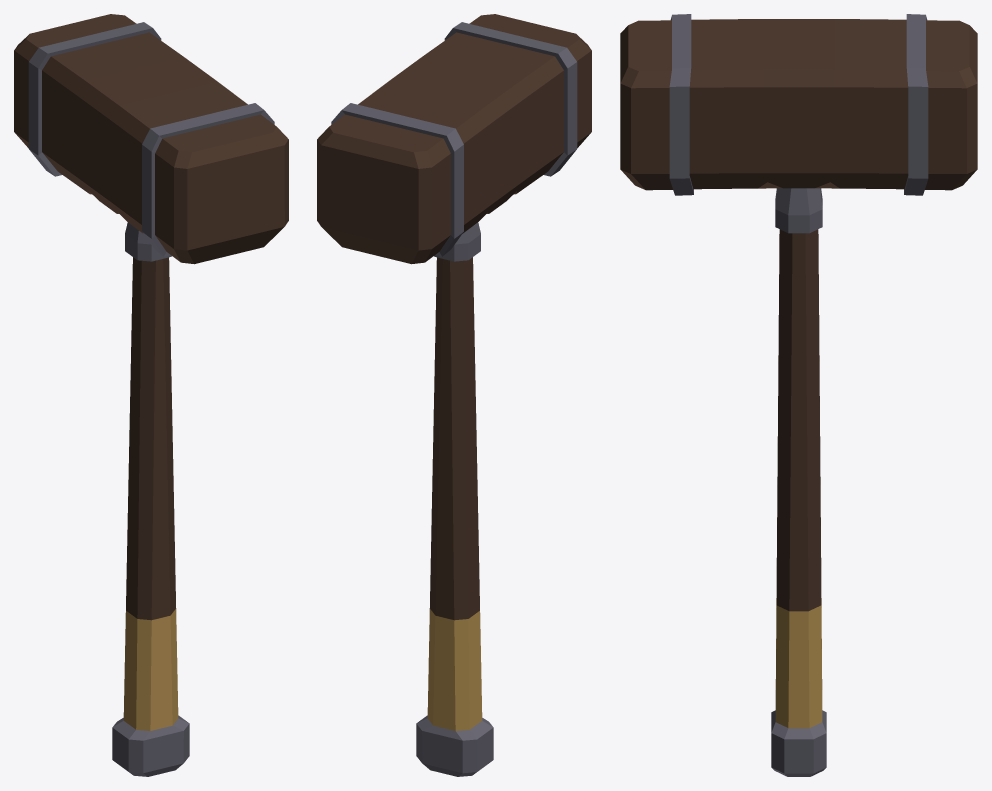
Rendered from Hammer.fbx.
The picture shows the model from 3 angles, left to right: view 1: azimuth 30°, elevation 25°; view 2: azimuth 150°, elevation 25°; view 3: azimuth 270°, elevation 25°; orthographic projection. The views are drawn at different scales.
Visible parts, largest first — view 1: Plane; view 2: Plane; view 3: Plane.
Part boxes in pixels (x1,y1,x2,y2): Plane: (14,14,288,776); Plane: (317,14,591,776); Plane: (620,14,977,776).
Bounding box in the file's own units: 1.42 × 7.59 × 3.4.
